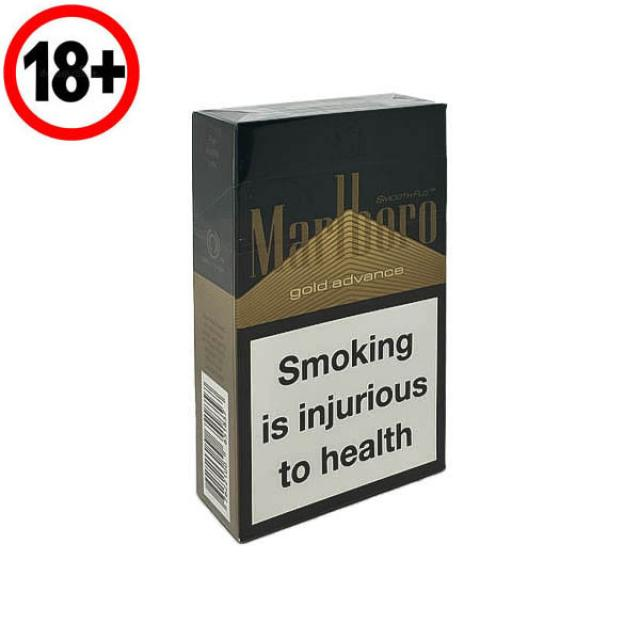marlboro: (159, 96, 466, 542)
